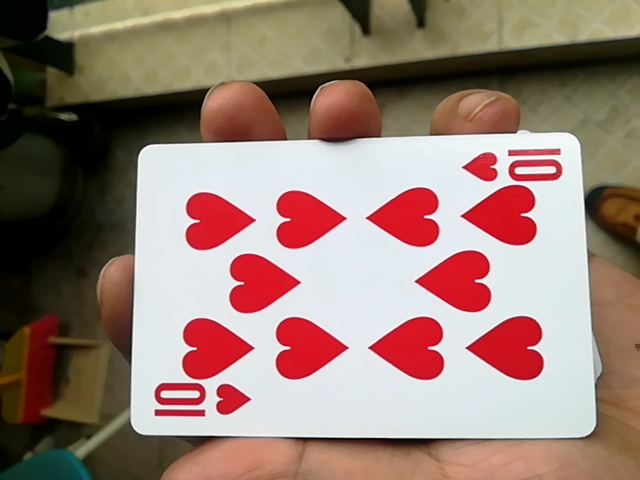hx 10: (120, 134, 587, 449)
